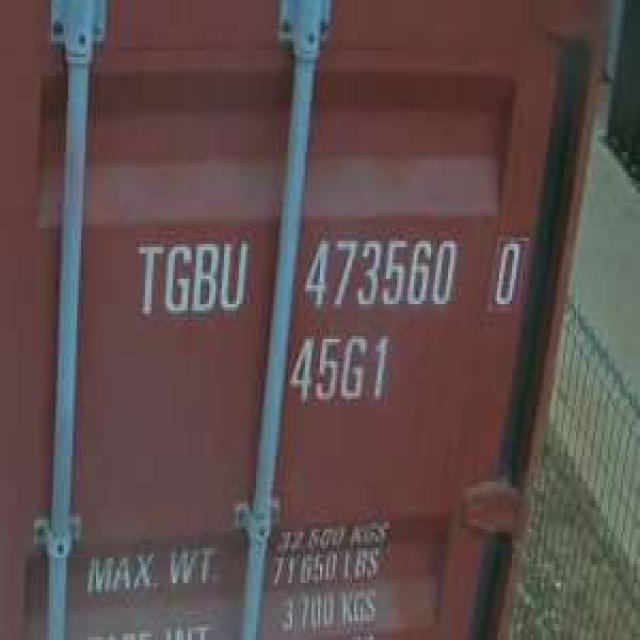dv: (486, 228, 527, 317)
owner: (128, 232, 252, 326)
serial: (298, 225, 458, 317)
size: (286, 326, 392, 412)
